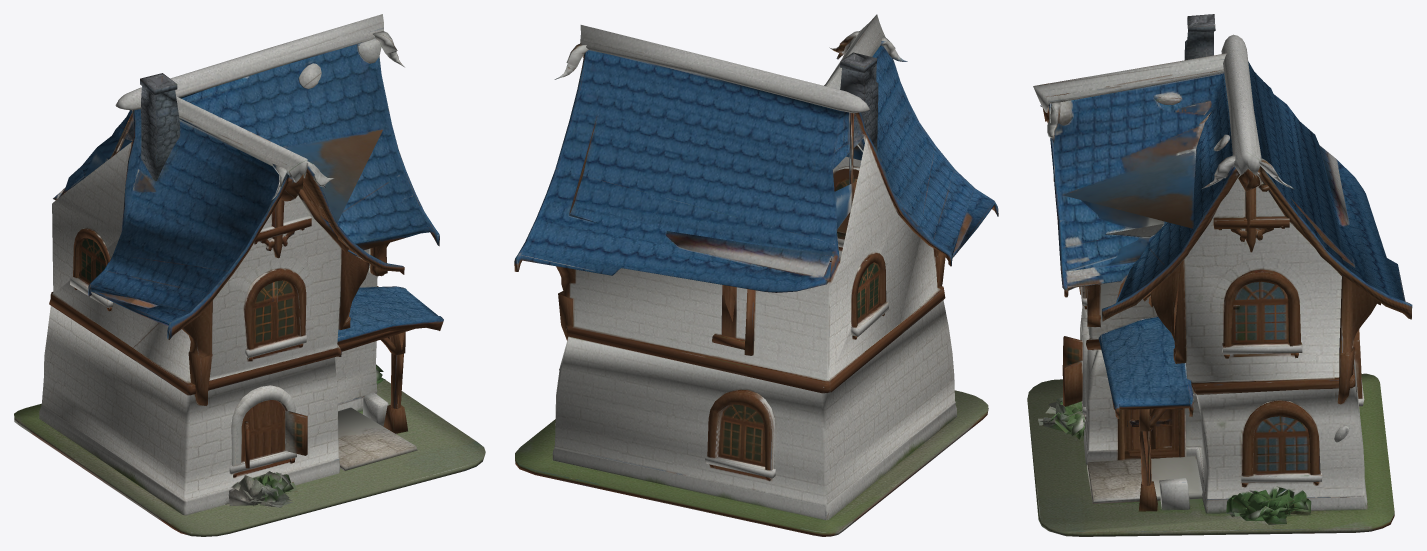
Rendered from house_a_eldarwen.glb.
3 views of the same model, side by side, from view 1: azimuth 30°, elevation 25°; view 2: azimuth 150°, elevation 25°; view 3: azimuth 270°, elevation 25° (orthographic). The views are drawn at different scales.
Size of the model in its own units: 0.873 by 0.9507 by 0.8501.
Materials: 1 (1 with a texture image).
